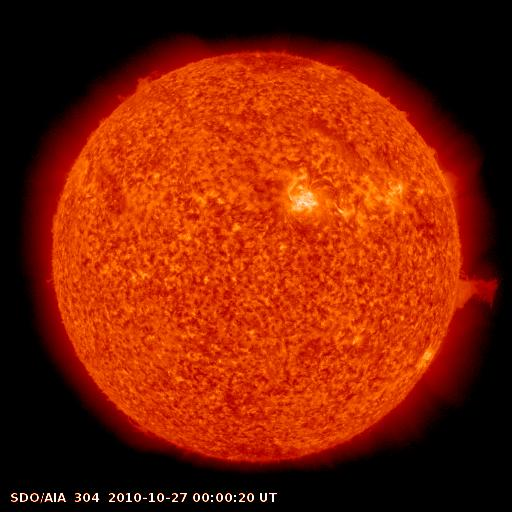prominence: (439, 260, 507, 318), (110, 58, 175, 112), (111, 401, 166, 447), (378, 87, 418, 128), (420, 133, 448, 164)
